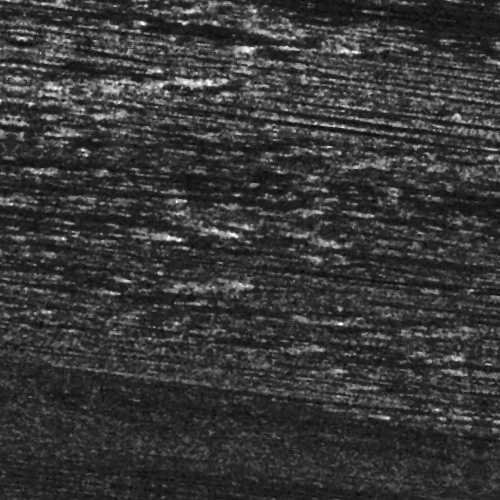object: (135, 80, 218, 91), (296, 307, 327, 314), (84, 302, 137, 305), (139, 242, 170, 245), (230, 230, 241, 235)
shadow: (309, 1, 500, 12), (175, 0, 500, 6), (12, 80, 176, 91), (0, 230, 235, 235), (150, 307, 312, 314), (362, 40, 500, 45), (0, 302, 110, 305), (68, 242, 154, 245), (475, 302, 500, 309)
